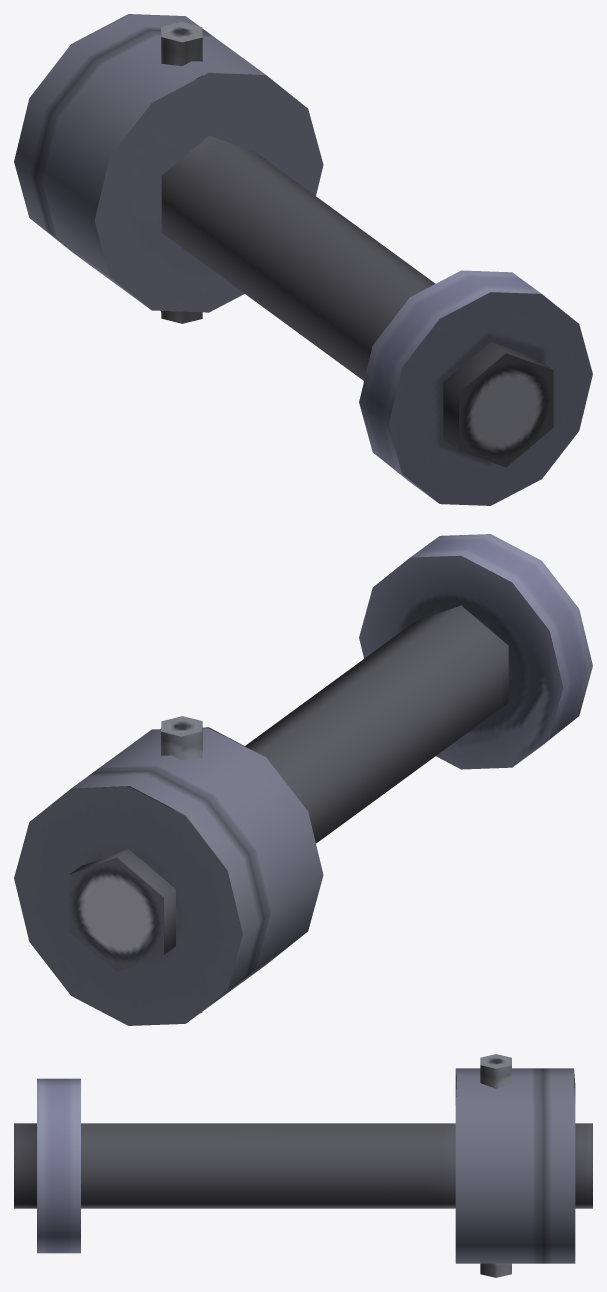
Rendered from obj_interactive_suspensionoffroad_off.fbx.
3 views of the same model, one above another, from view 1: azimuth 30°, elevation 25°; view 2: azimuth 150°, elevation 25°; view 3: azimuth 270°, elevation 25° (orthographic). The views are drawn at different scales.
Parts seen in each view (by area): view 1: obj_interactive_suspensionoffroad_off_lod0; view 2: obj_interactive_suspensionoffroad_off_lod0; view 3: obj_interactive_suspensionoffroad_off_lod0.
Boxes of the visible parts, x1,y1,x2,y2 form: obj_interactive_suspensionoffroad_off_lod0: [14, 14, 592, 505]; obj_interactive_suspensionoffroad_off_lod0: [14, 534, 592, 1025]; obj_interactive_suspensionoffroad_off_lod0: [14, 1054, 592, 1277].
Bounding box in the file's own units: 1.09 × 1.29 × 3.23.
1 material, 1 textured.
